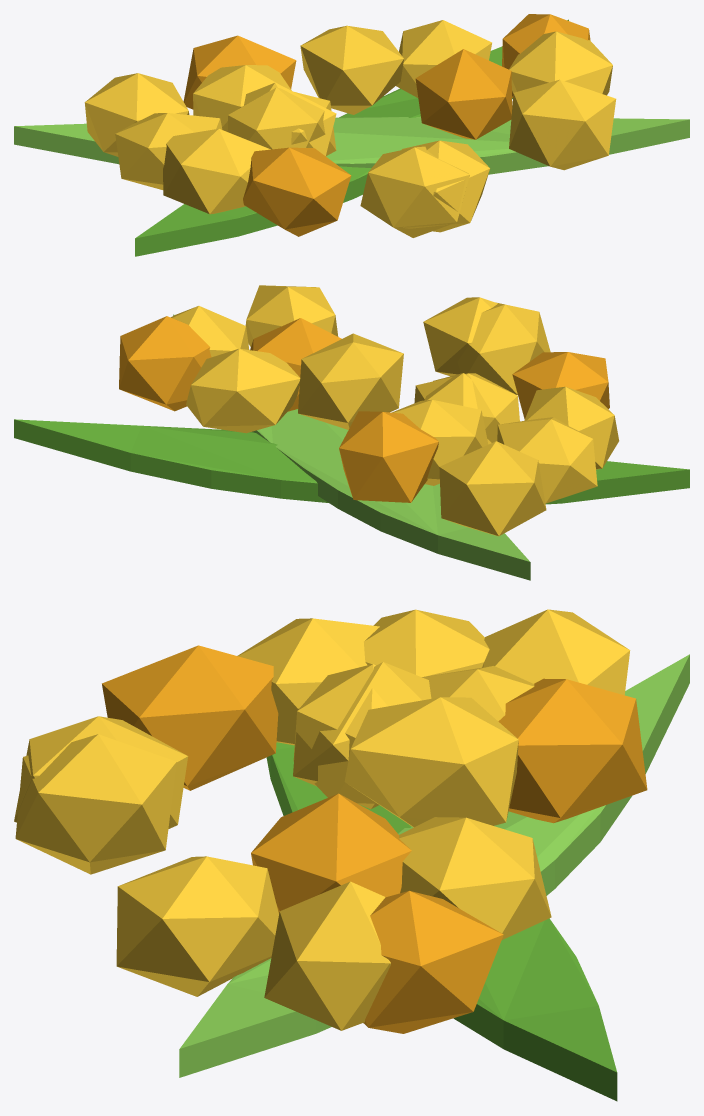
Rendered from Corn.fbx.
The picture shows the model from 3 angles, top to bottom: view 1: azimuth 30°, elevation 25°; view 2: azimuth 150°, elevation 25°; view 3: azimuth 270°, elevation 25°; orthographic projection. The views are drawn at different scales.
Parts seen in each view (by area): view 1: Top_FFD23A, Top_F2A81E, Top_8ED458, Top_6CB83C; view 2: Top_FFD23A, Top_F2A81E, Top_6CB83C, Top_8ED458; view 3: Top_FFD23A, Top_F2A81E, Top_6CB83C, Top_8ED458.
Part boxes in pixels (x1=…): Top_FFD23A: x1=84, y1=20, x2=616, y2=237; Top_F2A81E: x1=183, y1=14, x2=590, y2=236; Top_8ED458: x1=14, y1=117, x2=689, y2=174; Top_6CB83C: x1=135, y1=19, x2=568, y2=256; Top_FFD23A: x1=171, y1=285, x2=619, y2=536; Top_F2A81E: x1=119, y1=316, x2=609, y2=502; Top_6CB83C: x1=14, y1=419, x2=689, y2=504; Top_8ED458: x1=173, y1=314, x2=530, y2=580; Top_FFD23A: x1=14, y1=609, x2=630, y2=1030; Top_F2A81E: x1=102, y1=645, x2=647, y2=1033; Top_6CB83C: x1=266, y1=742, x2=617, y2=1101; Top_8ED458: x1=179, y1=654, x2=689, y2=1077.
Size of the model in its own units: 2 by 0.4828 by 1.35.
